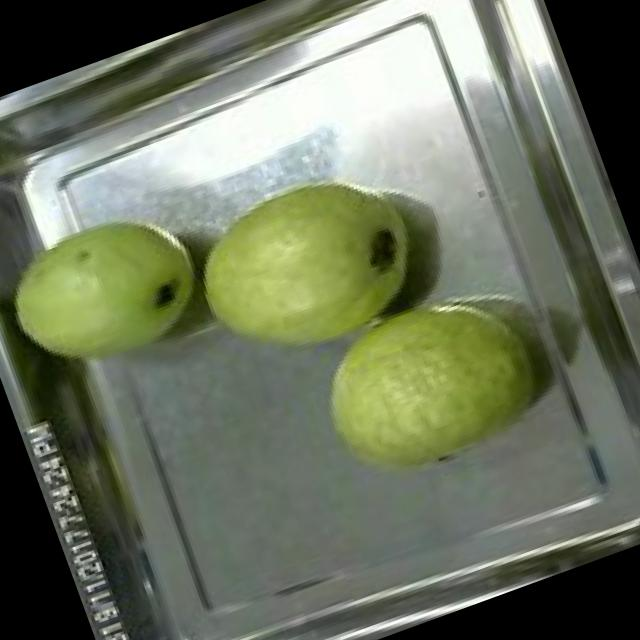Fruit: (165, 138, 452, 388), (288, 256, 566, 506), (0, 181, 234, 410)
